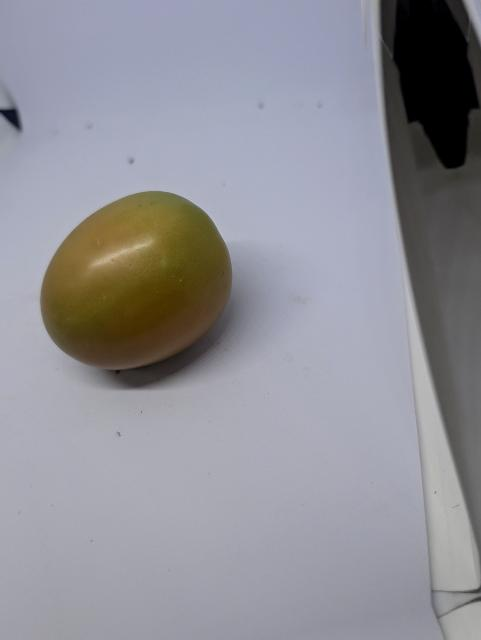breaker: (42, 183, 240, 387)
